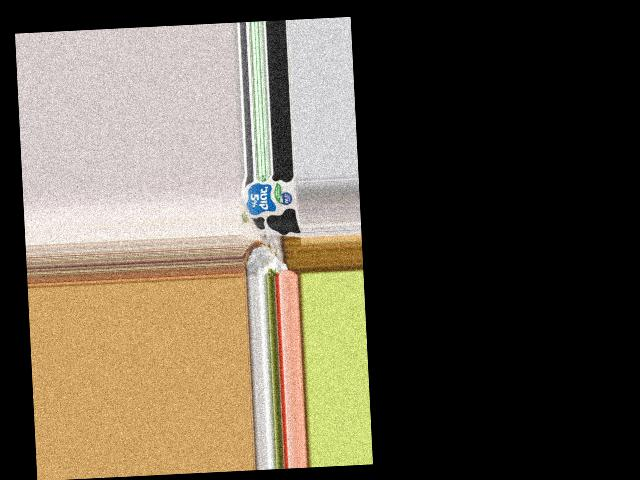cotage: (241, 173, 300, 236)
